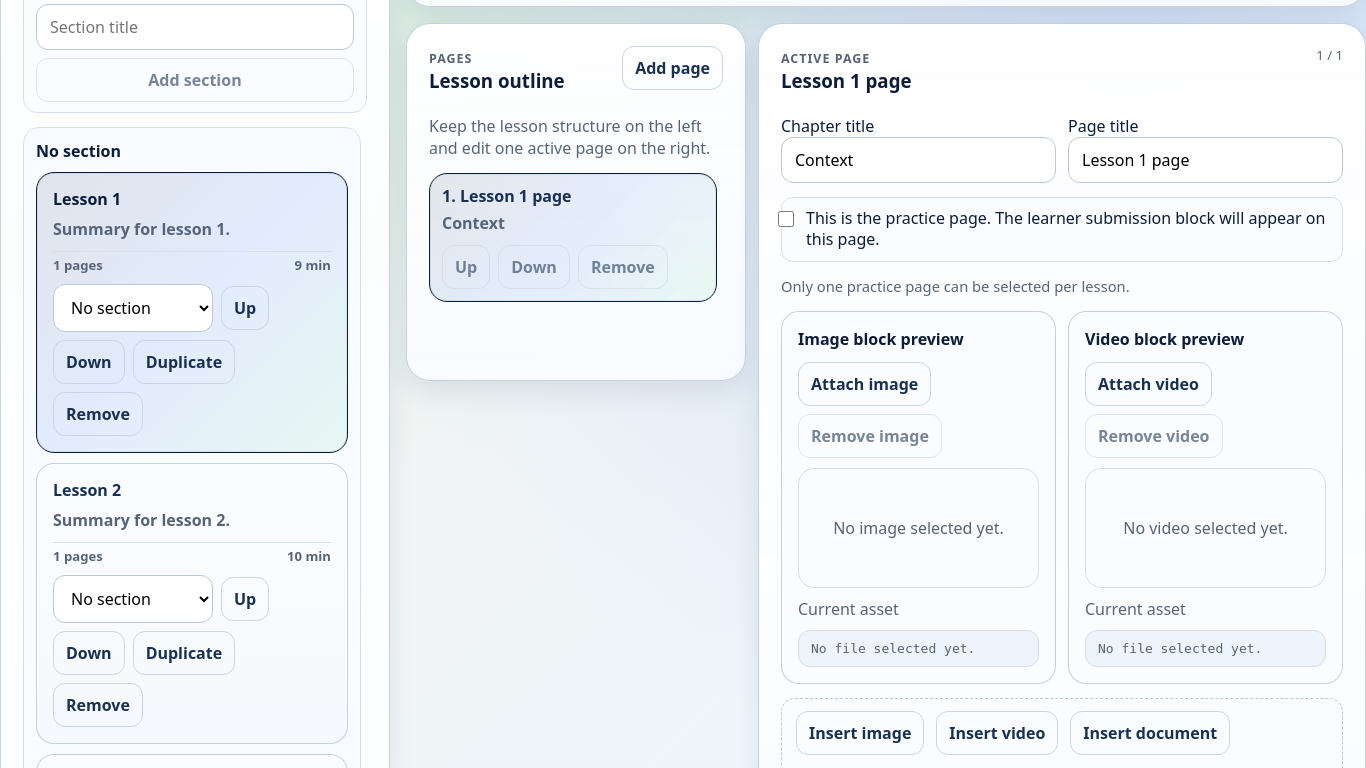
Test case: LessonsPage › opens the image modal from the lessons page
(page scrolled)
Step 1. Click the button "Attach image" → (865, 384), box [798,362,931,406]
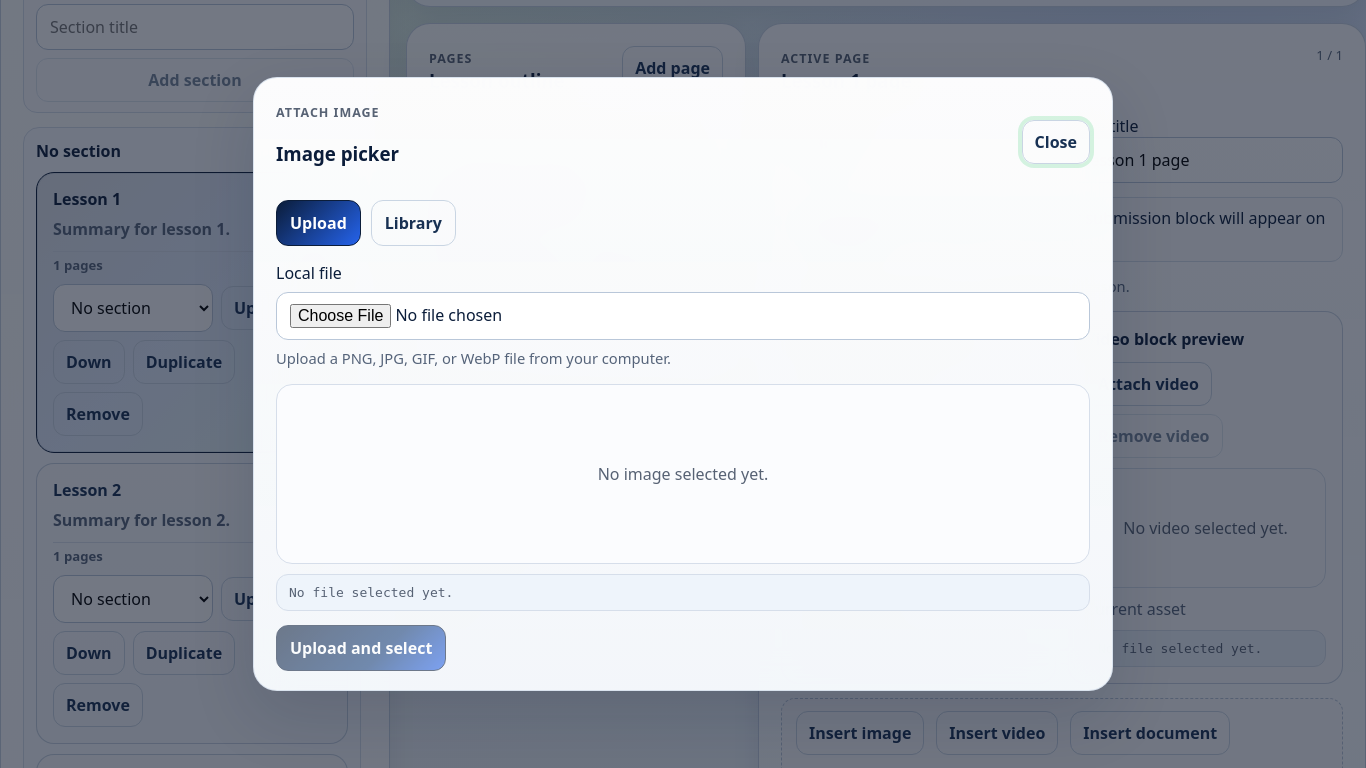
Expected: the dialog "Image picker" is shown, [253,77,1113,691]
